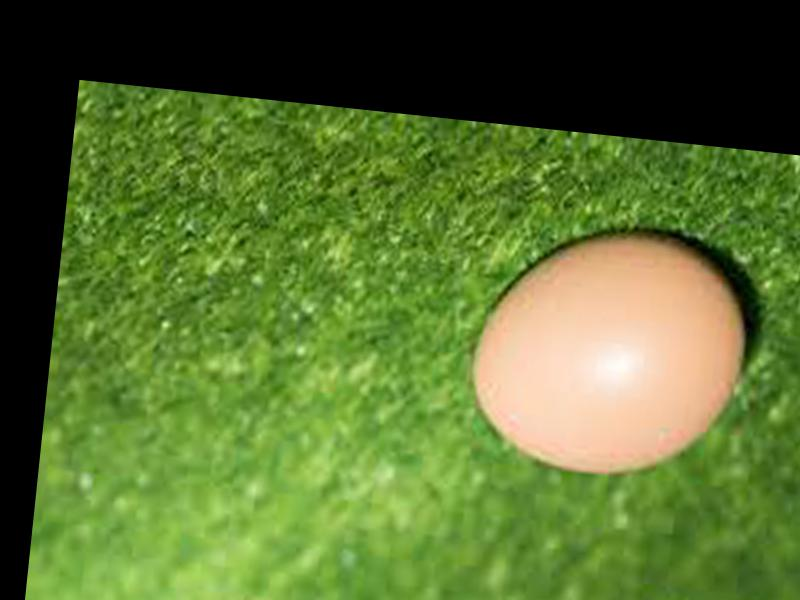Eggs: (460, 214, 758, 484)
